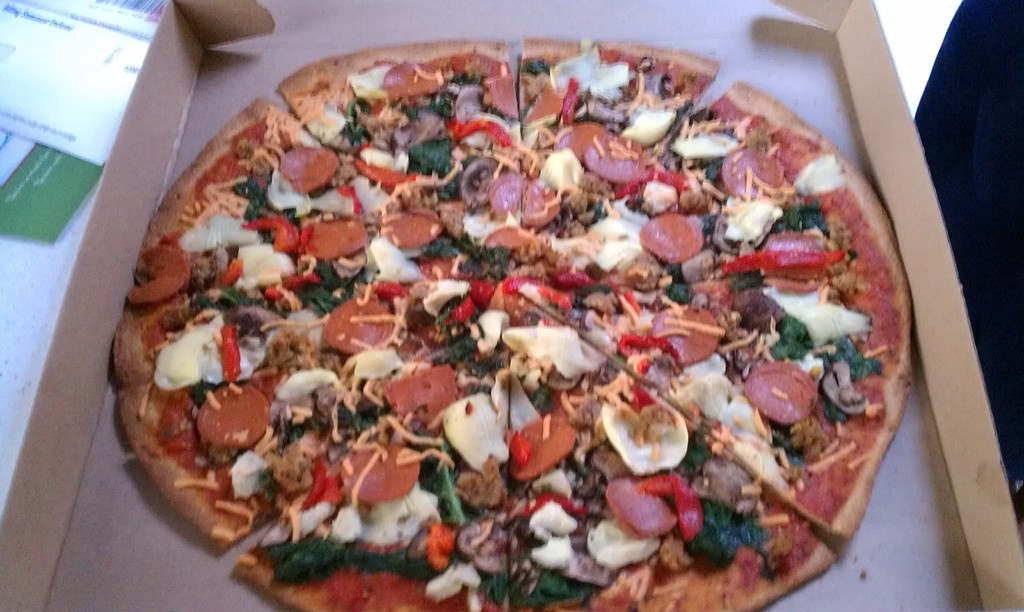Pizza: (111, 9, 916, 604)
